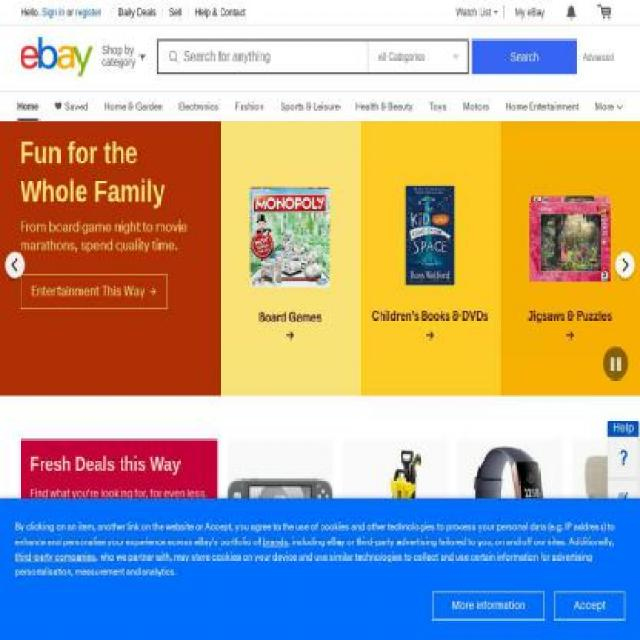button: (342, 439, 448, 624), (457, 439, 563, 624), (228, 438, 332, 608), (572, 440, 639, 608), (20, 275, 168, 313), (432, 592, 545, 620), (20, 37, 94, 77), (554, 592, 626, 620), (96, 37, 153, 72), (577, 40, 620, 74), (607, 478, 639, 520), (607, 437, 639, 478), (449, 1, 505, 22), (508, 1, 552, 22), (555, 1, 588, 22), (590, 1, 618, 22)
field: (158, 42, 364, 72), (472, 39, 577, 75), (368, 42, 468, 72)
